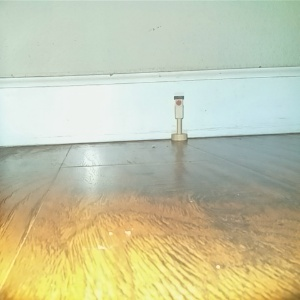traffic light red: (169, 94, 188, 142)
